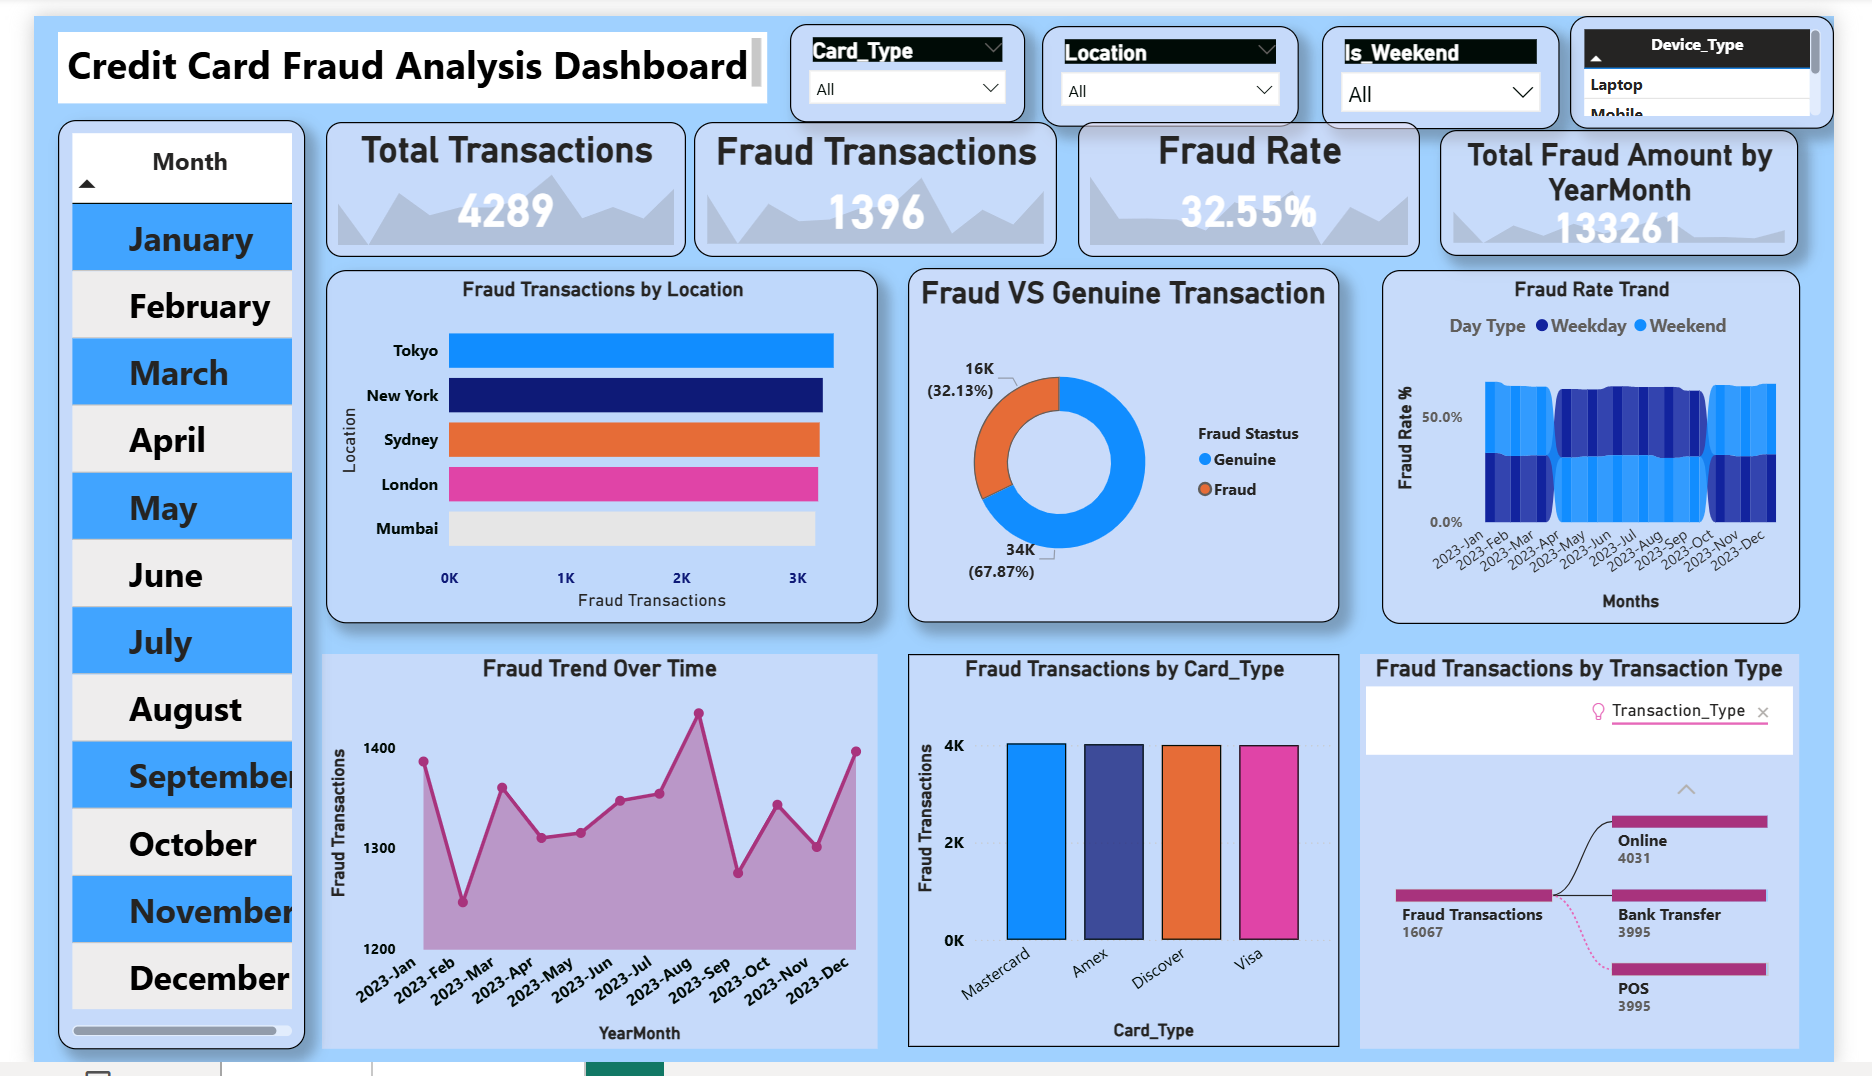

What the dashboard file says about the page in this screenshot:
{"tool":"powerbi","page":{"name":"Page 1","canvas":[1500,877],"ordinal":0},"visuals":[{"type":"textbox","box":[19.3,14,591.2,59.6],"z":0},{"type":"decompositionTreeVisual","title":"Fraud Transactions by Transaction Type","fields":{"ExplainBy":["synthetic_fraud_dataset.Transaction_Type"],"Analyze":["synthetic_fraud_dataset.Fraud Transactions"]},"box":[1105.3,531.6,365.8,328.9],"z":1000},{"type":"clusteredColumnChart","fields":{"Category":["synthetic_fraud_dataset.Card_Type"],"Y":["synthetic_fraud_dataset.Fraud Transactions"]},"box":[727.7,531.9,359.6,327.7],"z":2000},{"type":"clusteredBarChart","fields":{"Category":["synthetic_fraud_dataset.Location"],"Y":["synthetic_fraud_dataset.Fraud Transactions"]},"box":[242.9,211.4,460,294.3],"z":3000},{"type":"donutChart","title":"Fraud VS Genuine Transaction","fields":{"Category":["synthetic_fraud_dataset.Fraud Stastus"],"Y":["synthetic_fraud_dataset.Total Transactions"]},"box":[727.7,210.6,359.6,295.7],"z":4000},{"type":"areaChart","title":"Fraud Trend Over Time","fields":{"Category":["synthetic_fraud_dataset.YearMonth"],"Y":["synthetic_fraud_dataset.Fraud Transactions"]},"box":[239.5,531.6,463.2,328.9],"z":5000},{"type":"slicer","fields":{"Values":["synthetic_fraud_dataset.Card_Type"]},"box":[630,6,196,82],"z":6000},{"type":"slicer","fields":{"Values":["synthetic_fraud_dataset.Location"]},"box":[840,8,214,84],"z":7000},{"type":"slicer","fields":{"Values":["synthetic_fraud_dataset.Is_Weekend"]},"box":[1074,8,198,86],"z":8000},{"type":"tableEx","fields":{"Values":["synthetic_fraud_dataset.Device_Type"]},"box":[1280,0,220,94],"z":9000},{"type":"tableEx","fields":{"Values":["synthetic_fraud_dataset.Timestamp.Variation.Date Hierarchy.Month"]},"box":[19.6,86.3,205.9,774.5],"z":10000},{"type":"kpi","title":"Total Transactions ","fields":{"Indicator":["synthetic_fraud_dataset.Total Transactions"],"TrendLine":["synthetic_fraud_dataset.YearMonth"]},"box":[242.5,87.5,300,112.5],"z":11000},{"type":"kpi","title":"Fraud Transactions ","fields":{"Indicator":["synthetic_fraud_dataset.Fraud Transactions"],"TrendLine":["synthetic_fraud_dataset.YearMonth"]},"box":[550,87.5,302.5,112.5],"z":12000},{"type":"kpi","title":"Fraud Rate ","fields":{"Indicator":["synthetic_fraud_dataset.Fraud Rate"],"TrendLine":["synthetic_fraud_dataset.YearMonth"]},"box":[870,87.5,285,112.5],"z":13000},{"type":"kpi","fields":{"Indicator":["synthetic_fraud_dataset.Total Fraud Amount"],"TrendLine":["synthetic_fraud_dataset.YearMonth"]},"box":[1172.4,94.8,298.3,105.2],"z":14000},{"type":"ribbonChart","title":"Fraud Rate Trand","fields":{"Category":["synthetic_fraud_dataset.YearMonth"],"Series":["synthetic_fraud_dataset.Day Type"],"Y":["synthetic_fraud_dataset.Fraud Rate"]},"box":[1124.1,212.1,348.3,294.8],"z":15000}]}

Visuals, with their boxes in screenshot pixels (x1, y1, x2, y2), scaled from the page's 1500x877 canvas onto the 1872x1076 screenshot:
textbox: box(24, 17, 762, 90)
"Fraud Transactions by Transaction Type" decompositionTreeVisual: box(1379, 652, 1836, 1056)
clusteredColumnChart - synthetic_fraud_dataset.Card_Type x synthetic_fraud_dataset.Fraud Transactions: box(908, 653, 1357, 1055)
clusteredBarChart - synthetic_fraud_dataset.Location x synthetic_fraud_dataset.Fraud Transactions: box(303, 259, 877, 620)
"Fraud VS Genuine Transaction" donutChart: box(908, 258, 1357, 621)
"Fraud Trend Over Time" areaChart: box(299, 652, 877, 1056)
slicer - synthetic_fraud_dataset.Card_Type: box(786, 7, 1031, 108)
slicer - synthetic_fraud_dataset.Location: box(1048, 10, 1315, 113)
slicer - synthetic_fraud_dataset.Is_Weekend: box(1340, 10, 1587, 115)
tableEx - synthetic_fraud_dataset.Device_Type: box(1597, 0, 1871, 115)
tableEx - synthetic_fraud_dataset.Timestamp.Variation.Date Hierarchy.Month: box(24, 106, 281, 1056)
"Total Transactions " kpi: box(303, 107, 677, 245)
"Fraud Transactions " kpi: box(686, 107, 1064, 245)
"Fraud Rate " kpi: box(1086, 107, 1441, 245)
kpi - synthetic_fraud_dataset.Total Fraud Amount x synthetic_fraud_dataset.YearMonth: box(1463, 116, 1835, 245)
"Fraud Rate Trand" ribbonChart: box(1403, 260, 1838, 622)
